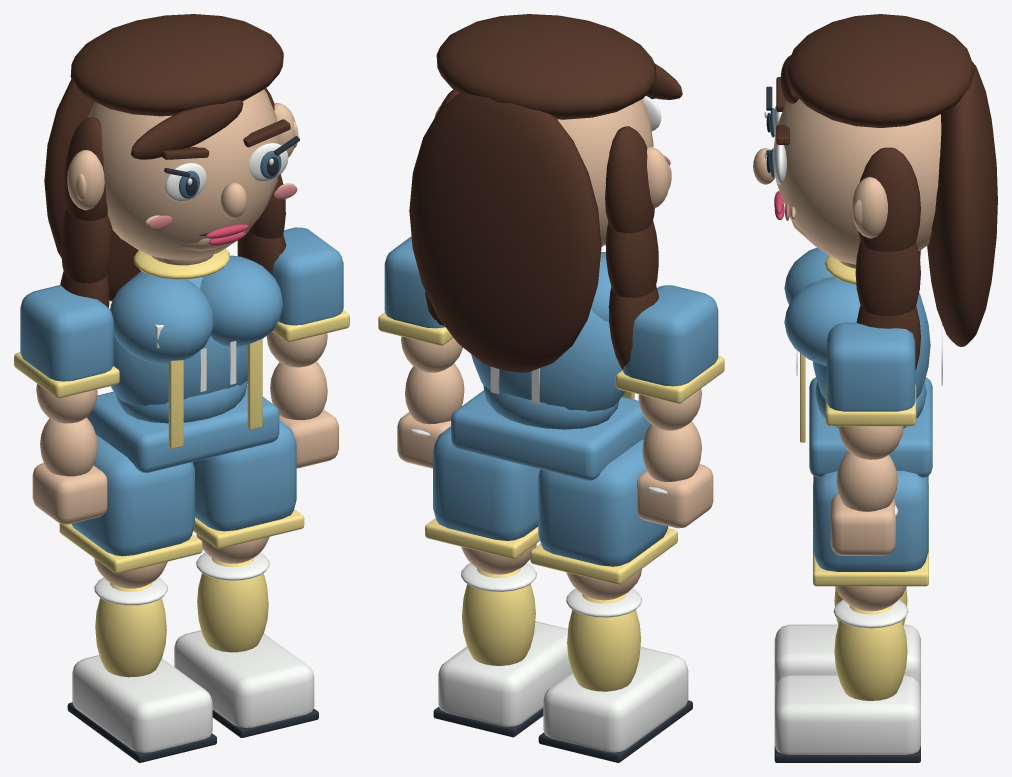
Rendered from Ada.fbx.
3 views of the same model, side by side, from view 1: azimuth 30°, elevation 25°; view 2: azimuth 150°, elevation 25°; view 3: azimuth 270°, elevation 25° (orthographic). The views are drawn at different scales.
Visible parts, largest first — view 1: HairCap, Head, Boot_Left, Boot_Right, Shorts_Left, Shorts_Right, Waist, Sleeve_Left, TailoredChest, Sleeve_Right, TailoredChest.001, FittedTorso (+35 smaller); view 2: LongHairBack, HairCap, Shorts_Left, Boot_Left, Waist, Shorts_Right, Boot_Right, Sleeve_Left, FittedTorso, Sock_Left, Sock_Right, LongSideLock (+24 smaller); view 3: HairCap, Head, LongHairBack, Boot_Right, Sleeve_Right, Shorts_Right, Sock_Right, Waist, TailoredChest.001, LongSideLock.004, LongSideLock.003, Boot_Left (+17 smaller).
Part boxes in pixels (x1,y1,x2,y2): HairCap: (70, 14, 283, 116); Head: (88, 89, 279, 259); Boot_Left: (72, 655, 212, 752); Boot_Right: (174, 630, 314, 727); Shorts_Left: (71, 434, 194, 556); Shorts_Right: (193, 420, 296, 531); Waist: (87, 385, 279, 472); Sleeve_Left: (20, 285, 113, 381); TailoredChest: (110, 274, 213, 363); Sleeve_Right: (272, 227, 343, 325); TailoredChest.001: (200, 255, 283, 347); FittedTorso: (111, 271, 247, 405); LongHairBack: (409, 92, 601, 372); HairCap: (436, 14, 656, 119); Shorts_Left: (538, 439, 668, 566); Boot_Left: (543, 646, 688, 752); Waist: (451, 390, 650, 480); Shorts_Right: (433, 426, 540, 540); Boot_Right: (438, 621, 571, 726); Sleeve_Left: (622, 285, 718, 386); FittedTorso: (471, 308, 624, 411); Sock_Left: (567, 594, 640, 691); Sock_Right: (462, 568, 535, 665); LongSideLock: (605, 126, 654, 233); HairCap: (786, 14, 974, 127); Head: (773, 99, 941, 264); LongHairBack: (927, 61, 997, 346); Boot_Right: (774, 675, 920, 754); Sleeve_Right: (826, 322, 915, 411); Shorts_Right: (813, 471, 928, 571); Sock_Right: (834, 605, 907, 700); Waist: (809, 377, 932, 477); TailoredChest.001: (784, 277, 860, 365); LongSideLock.004: (855, 241, 920, 315); LongSideLock.003: (858, 147, 920, 251); Boot_Left: (774, 624, 920, 689).
Bounding box in the file's own units: 89.5 × 195 × 63.65.
